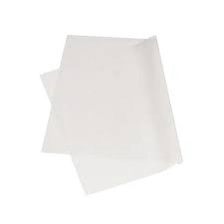tissue: (32, 25, 188, 200)
